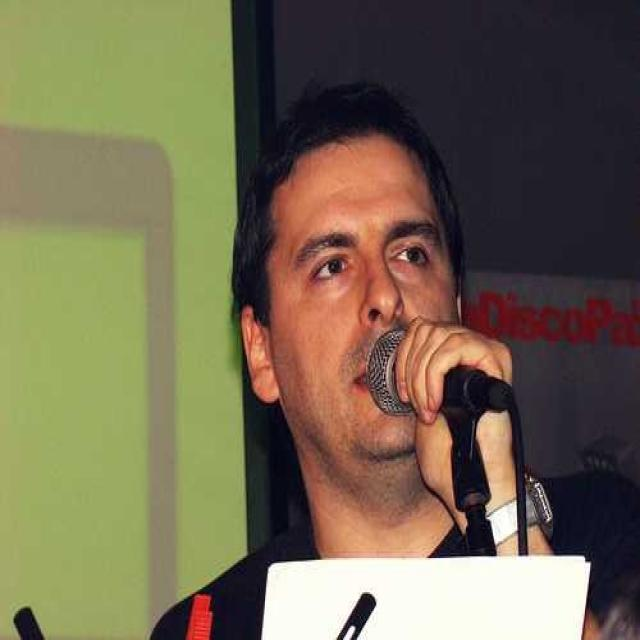microphone: (360, 319, 525, 472)
